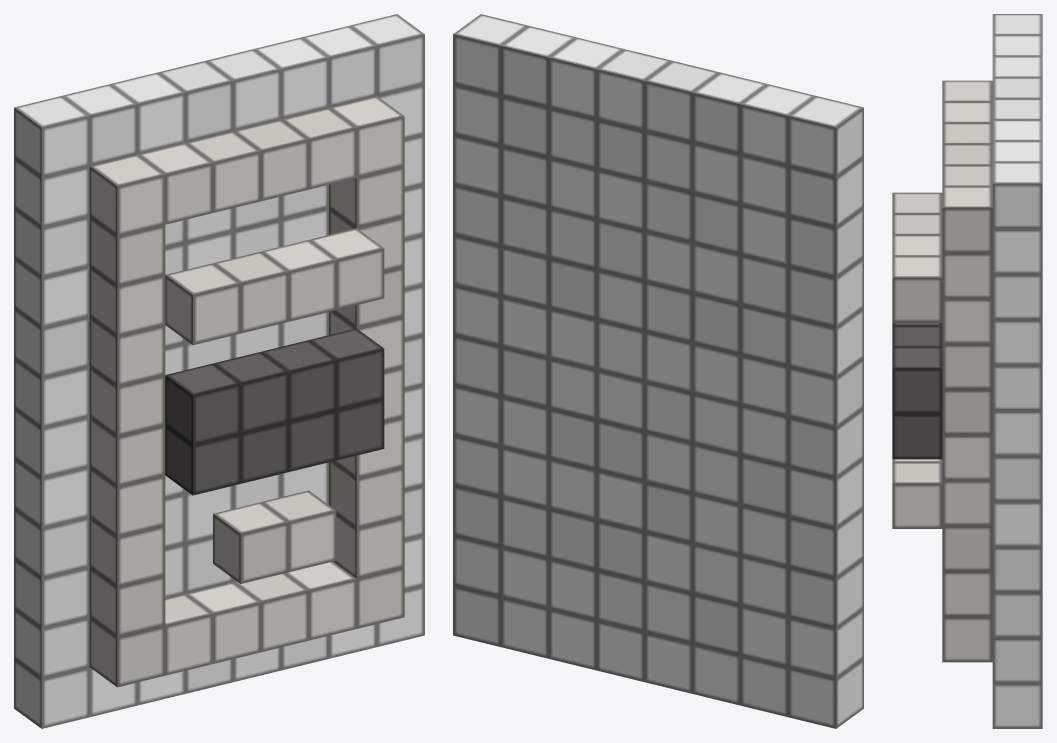
File: pdpa_sign.glb
3 views of the same model, side by side, from view 1: azimuth 30°, elevation 25°; view 2: azimuth 150°, elevation 25°; view 3: azimuth 270°, elevation 25° (orthographic). The views are drawn at different scales.
Parts seen in each view (by area): view 1: pdpa_sign; view 2: pdpa_sign; view 3: pdpa_sign.
Part boxes in pixels (box(x1,y1,x2,y2)): pdpa_sign: box(14, 14, 424, 728); pdpa_sign: box(453, 14, 863, 728); pdpa_sign: box(892, 14, 1042, 728).
Bounding box in the file's own units: 0.4 × 0.6 × 0.15.
Materials: 3 (3 with a texture image).
